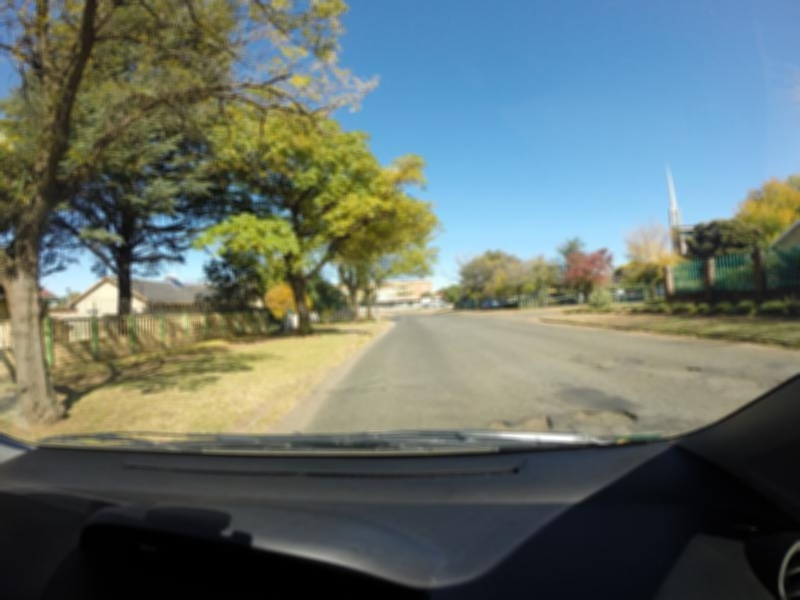pothole: (575, 411, 661, 427), (484, 418, 557, 431), (324, 388, 396, 395), (684, 366, 706, 370), (591, 361, 602, 368), (574, 357, 584, 363), (639, 373, 660, 374)
